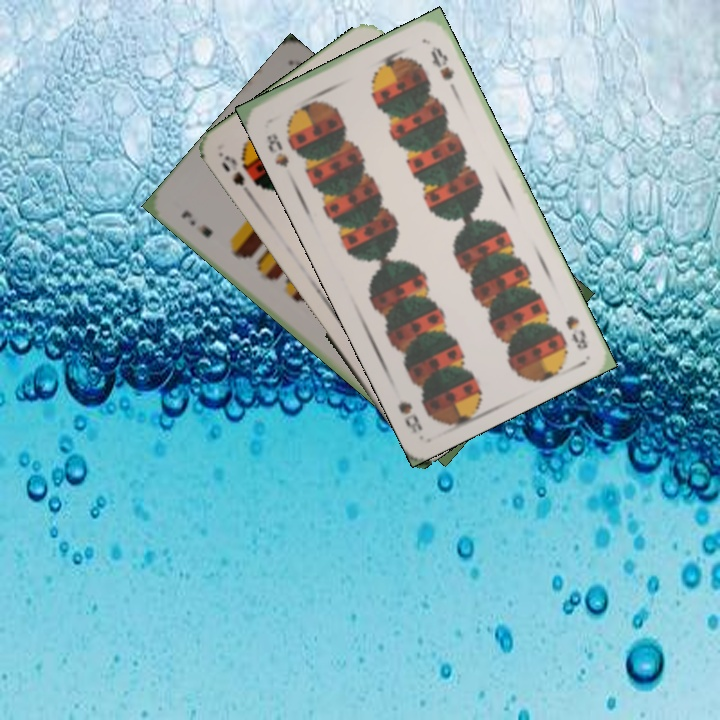E7: (177, 206, 215, 240)
S8: (262, 128, 292, 170), (562, 311, 591, 353)
SO: (217, 151, 258, 203)
